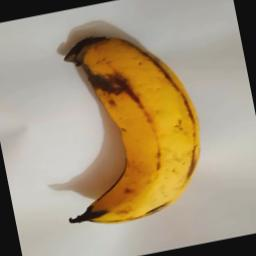Banana Unripe: (31, 16, 217, 237)
